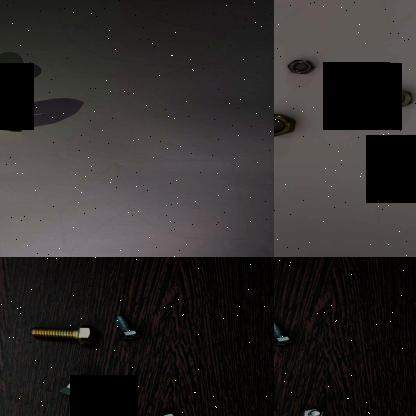Bolts: (57, 372, 122, 406), (21, 321, 99, 347), (107, 310, 147, 346), (274, 319, 295, 349), (150, 408, 190, 416), (299, 405, 327, 416)
NUTS: (360, 84, 416, 112), (279, 52, 319, 80), (0, 109, 38, 135), (274, 106, 301, 142), (0, 61, 25, 91)
